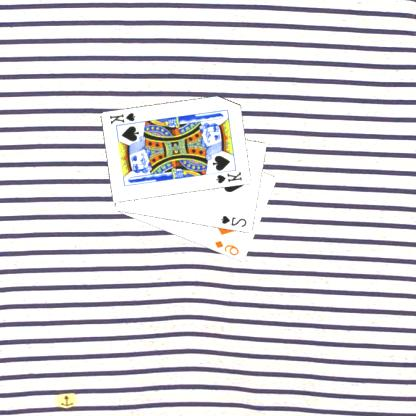2S: (220, 213, 250, 228)
9D: (214, 238, 242, 258)
KS: (109, 110, 142, 128), (215, 169, 245, 185)
